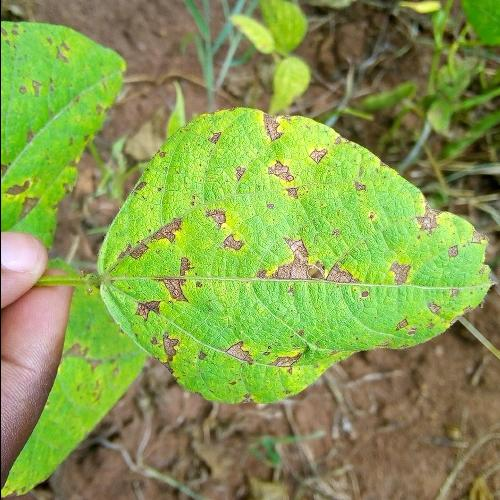hawar: (119, 118, 477, 392)
